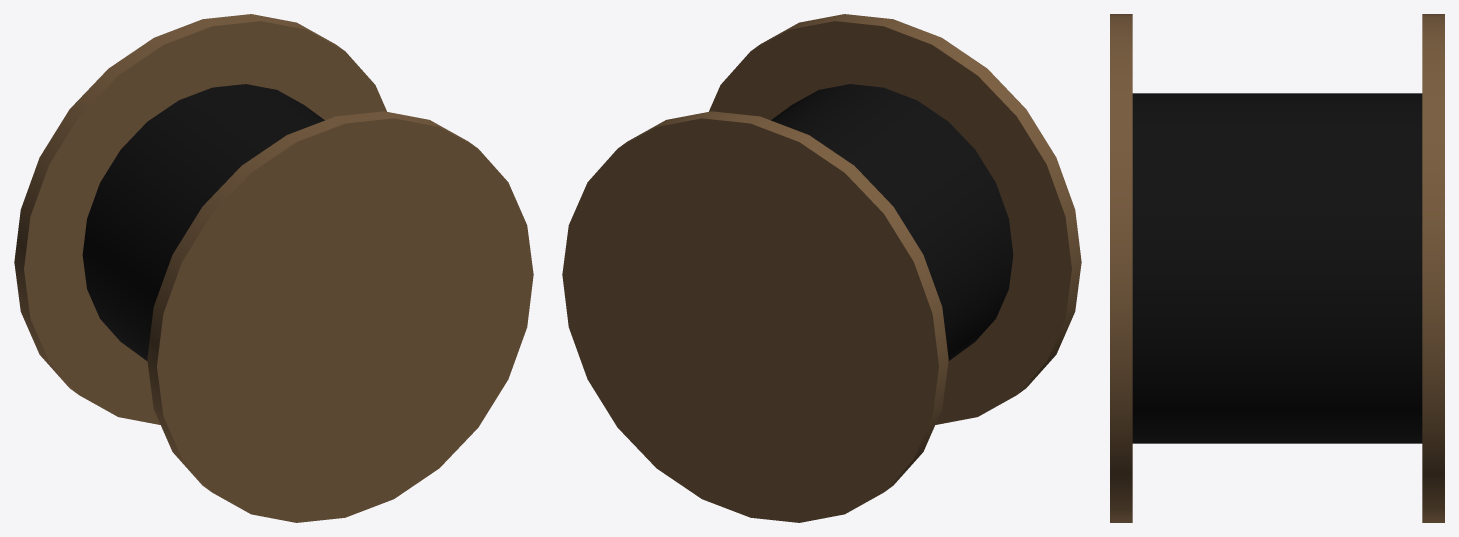
The model's file is cable-reel.glb.
3 views of the same model, side by side, from view 1: azimuth 30°, elevation 25°; view 2: azimuth 150°, elevation 25°; view 3: azimuth 270°, elevation 25° (orthographic). The views are drawn at different scales.
Parts seen in each view (by area): view 1: Piece_lod0; view 2: Piece_lod0; view 3: Piece_lod0.
Part boxes in pixels (left/top/right/bottom): Piece_lod0: left=14, top=14, right=533, bottom=522; Piece_lod0: left=562, top=14, right=1081, bottom=522; Piece_lod0: left=1110, top=14, right=1444, bottom=522.
Size of what is drawn, in the model's own units: 1.8 by 1.8 by 1.18.
